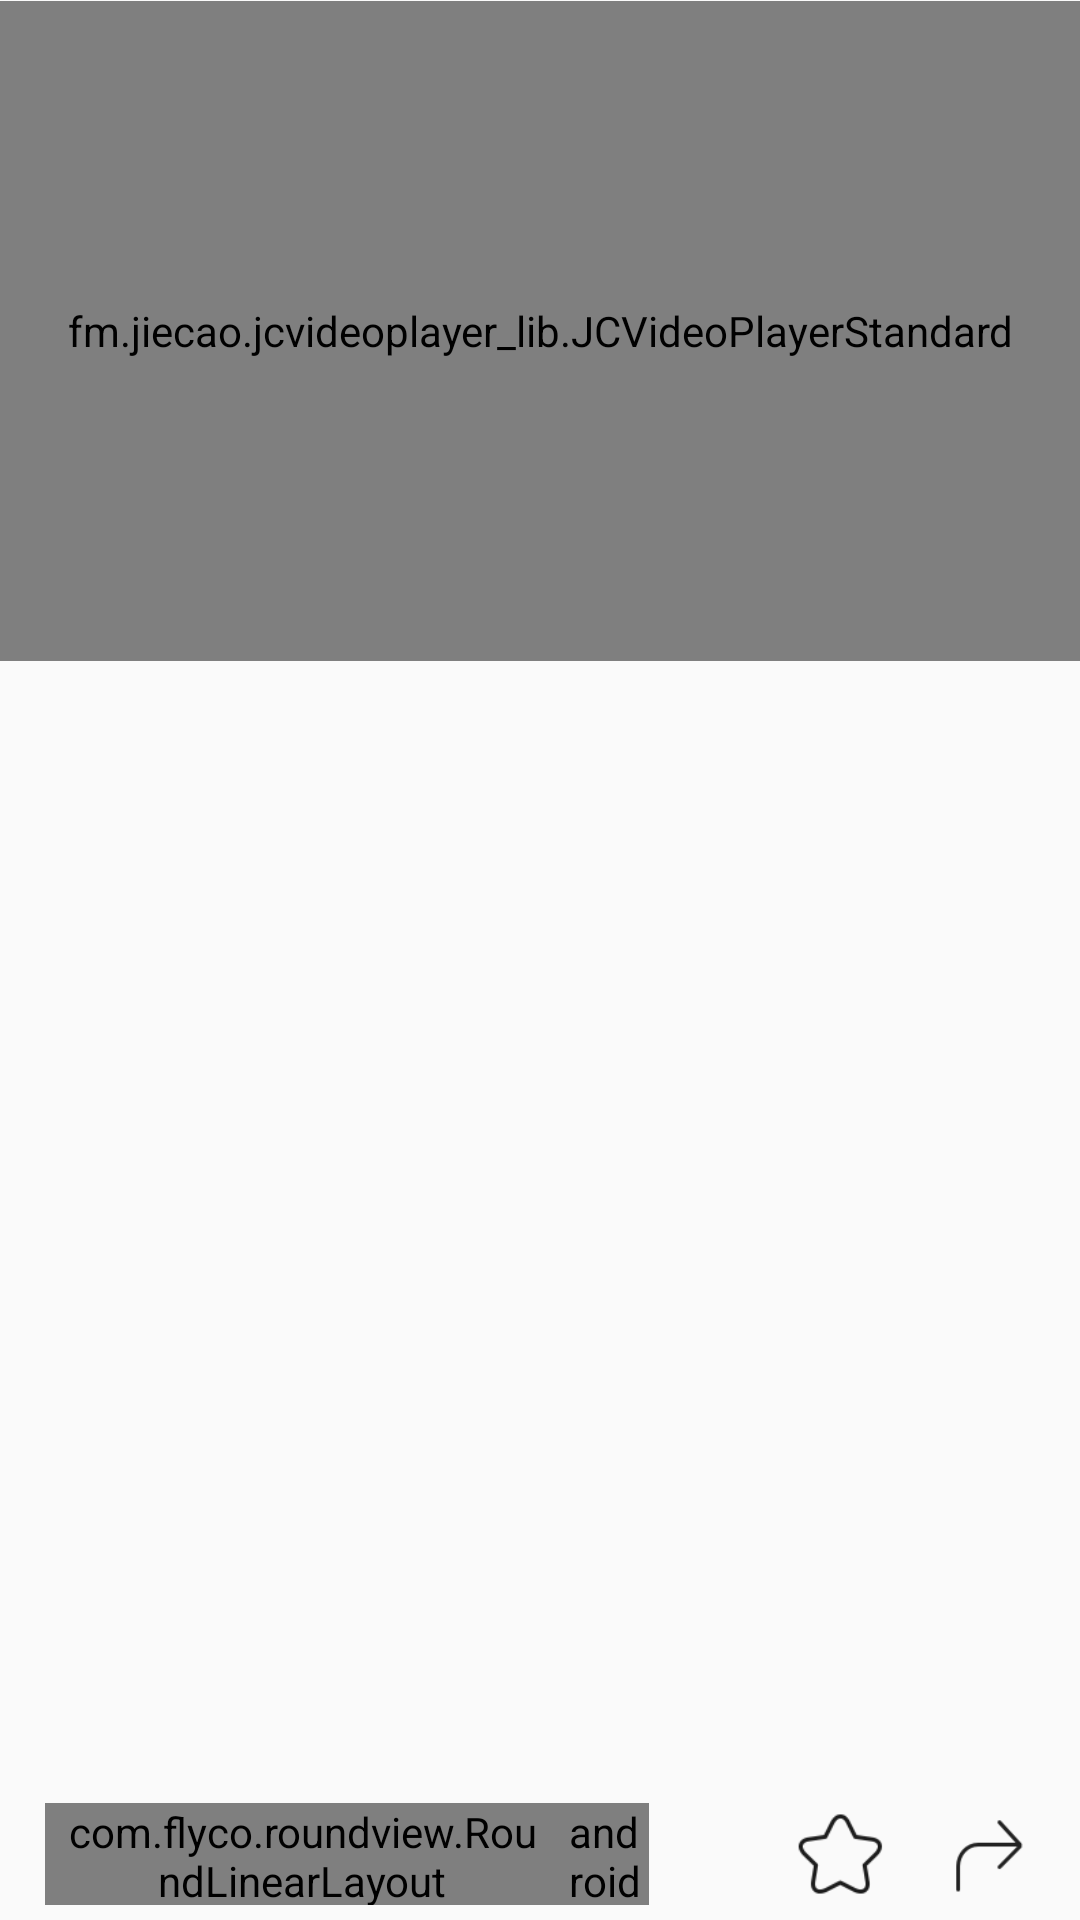

Screen size 1080 x 1920. Icon name, then its center in pixels as point (x, y):
news detail collect: point (840, 1854)
news detail share: point (989, 1856)
